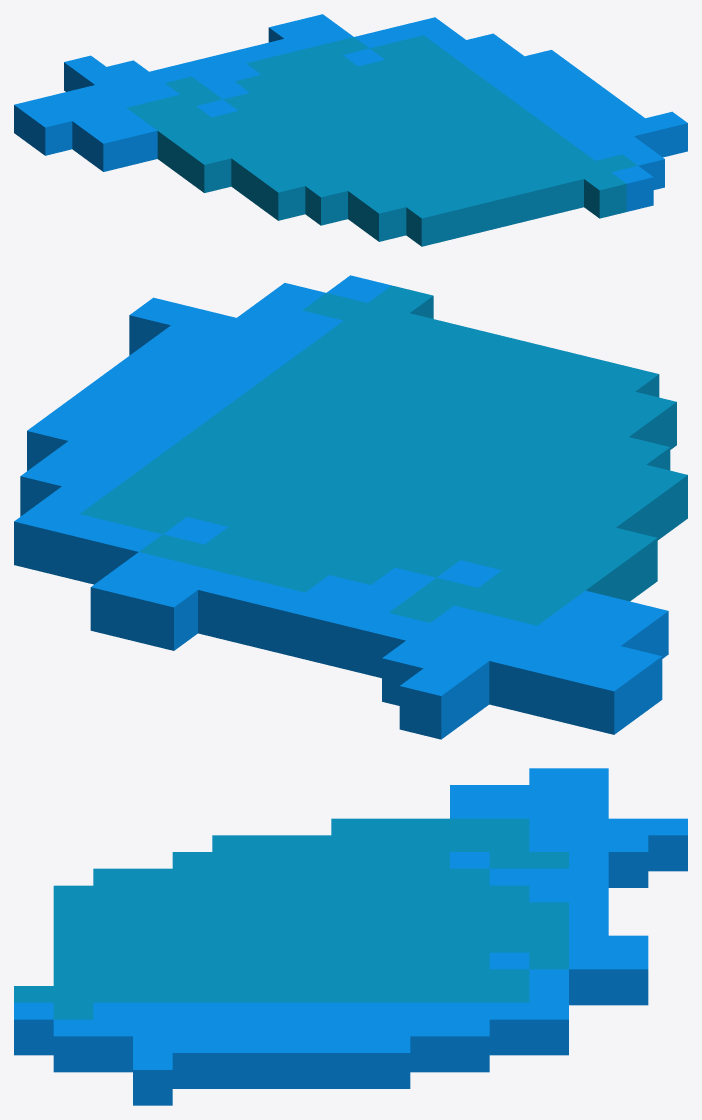
Rendered from map_v1-12.obj.
3 renders of one model, top to bottom at view 1: azimuth 30°, elevation 25°; view 2: azimuth 150°, elevation 25°; view 3: azimuth 270°, elevation 25°, orthographic. The views are drawn at different scales.
Size of the model in its own units: 1.8 by 0.1 by 1.7.
Materials: 1 (1 with a texture image).
